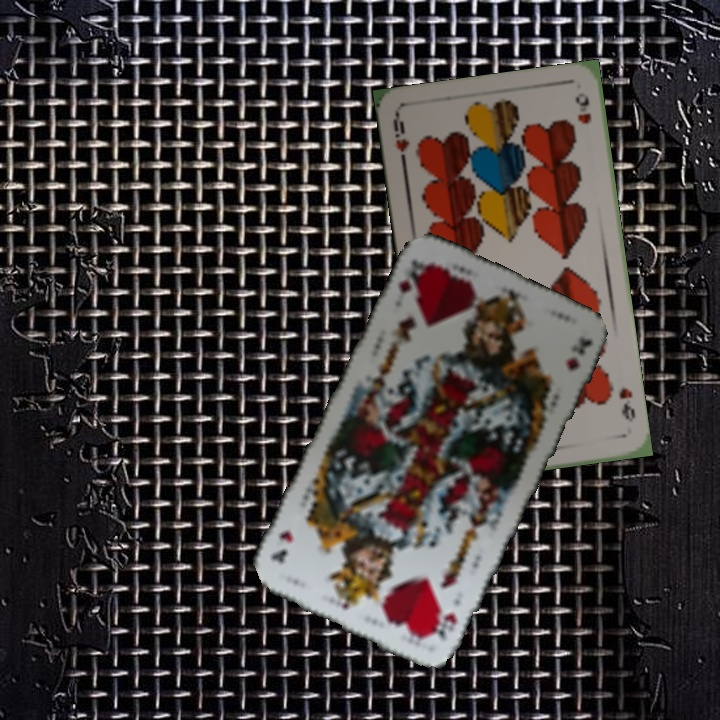H9: (388, 111, 412, 171), (615, 384, 638, 425)
HK: (392, 256, 432, 303), (429, 608, 460, 644)
